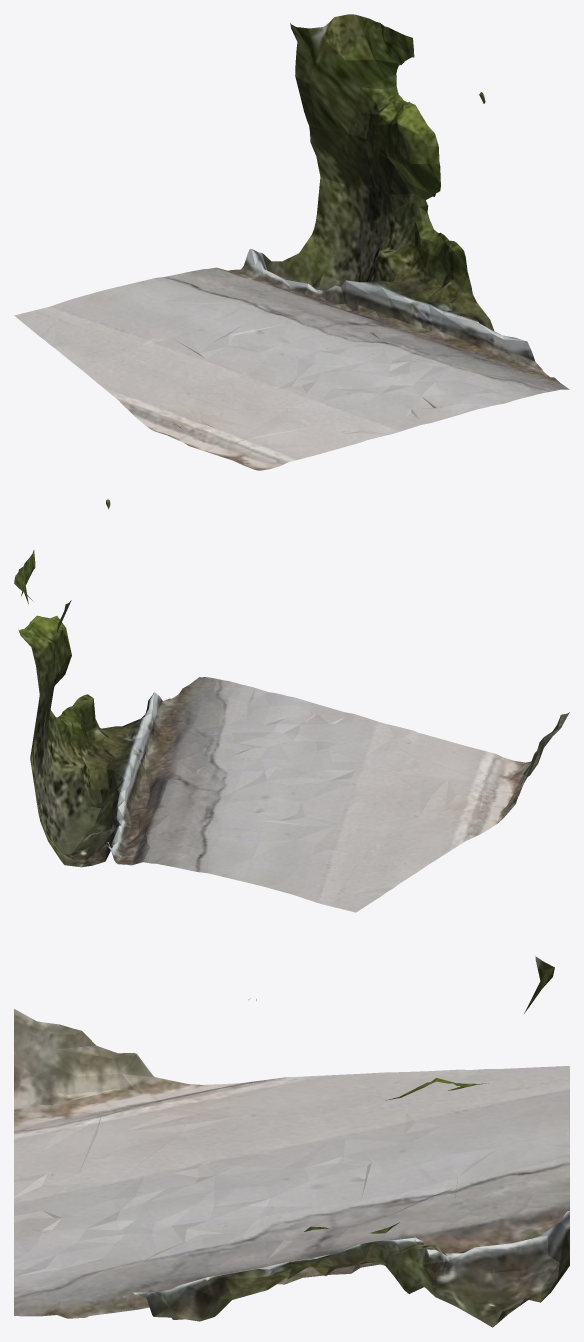
3 views of the same model, one above another, from view 1: azimuth 30°, elevation 25°; view 2: azimuth 150°, elevation 25°; view 3: azimuth 270°, elevation 25° (orthographic). The views are drawn at different scales.
Bounding box in the file's own units: 5.9 × 4.29 × 5.9.
3 materials, 3 textured.
